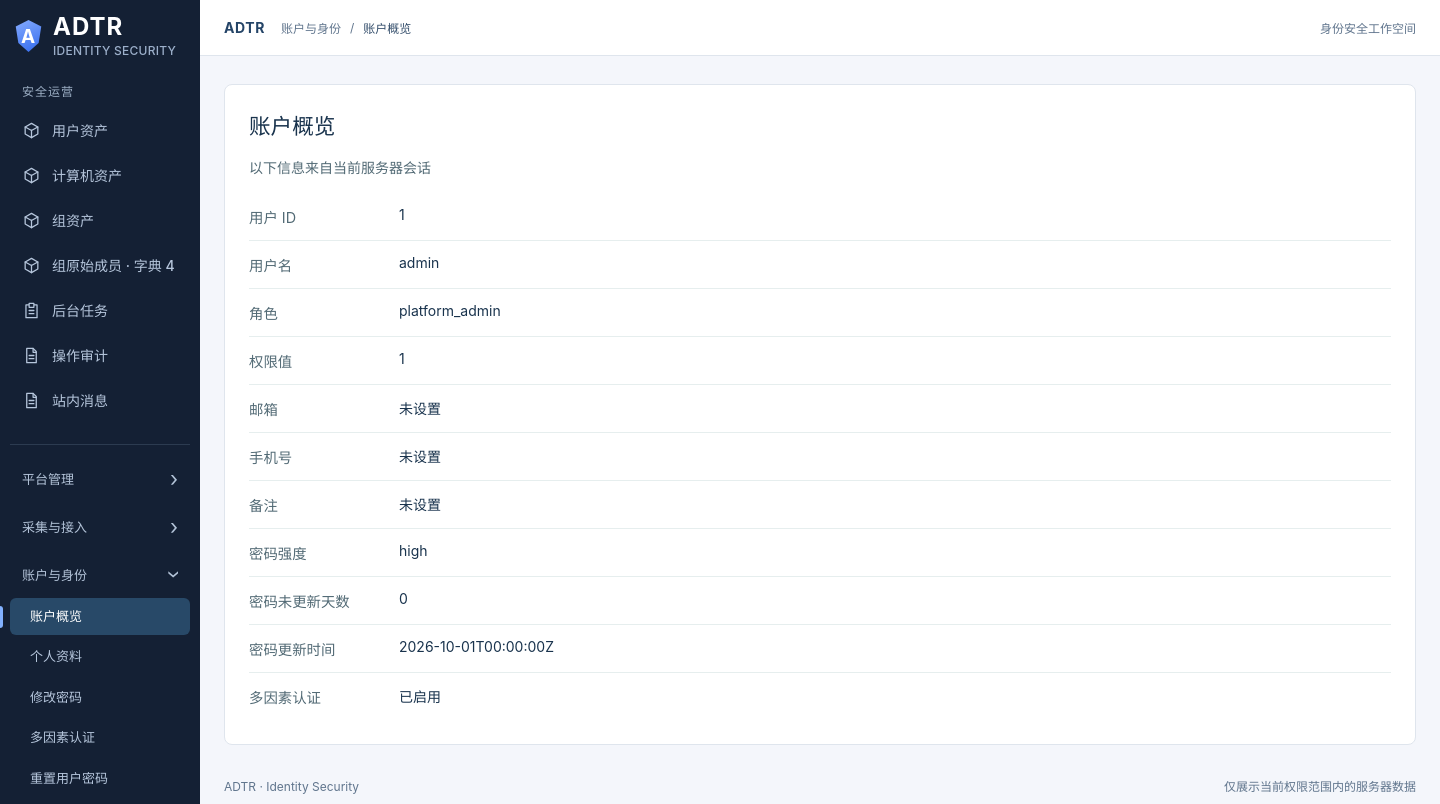
Test: server-driven navigation and sessions › shows no management functions for a viewer
Expected: the heading "账户概览" is shown, x1=249 y1=113 x2=335 y2=139
Step 1. Click the heading "平台管理 ›" → (48, 479), box x1=22 y1=466 x2=178 y2=491
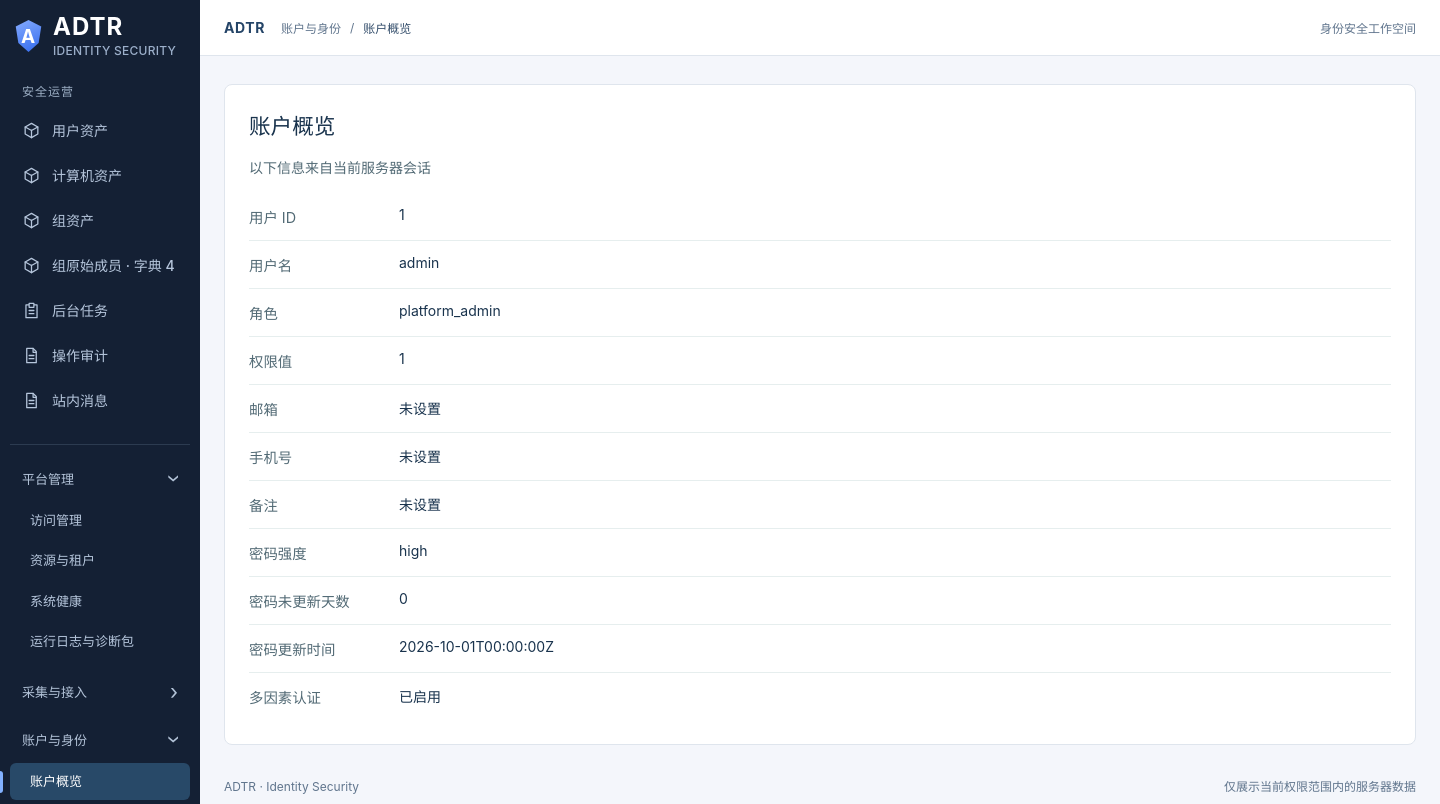
Expected: the button "访问管理" is shown
Step 2. Click the button "访问管理" → (100, 521), box x1=10 y1=502 x2=190 y2=539
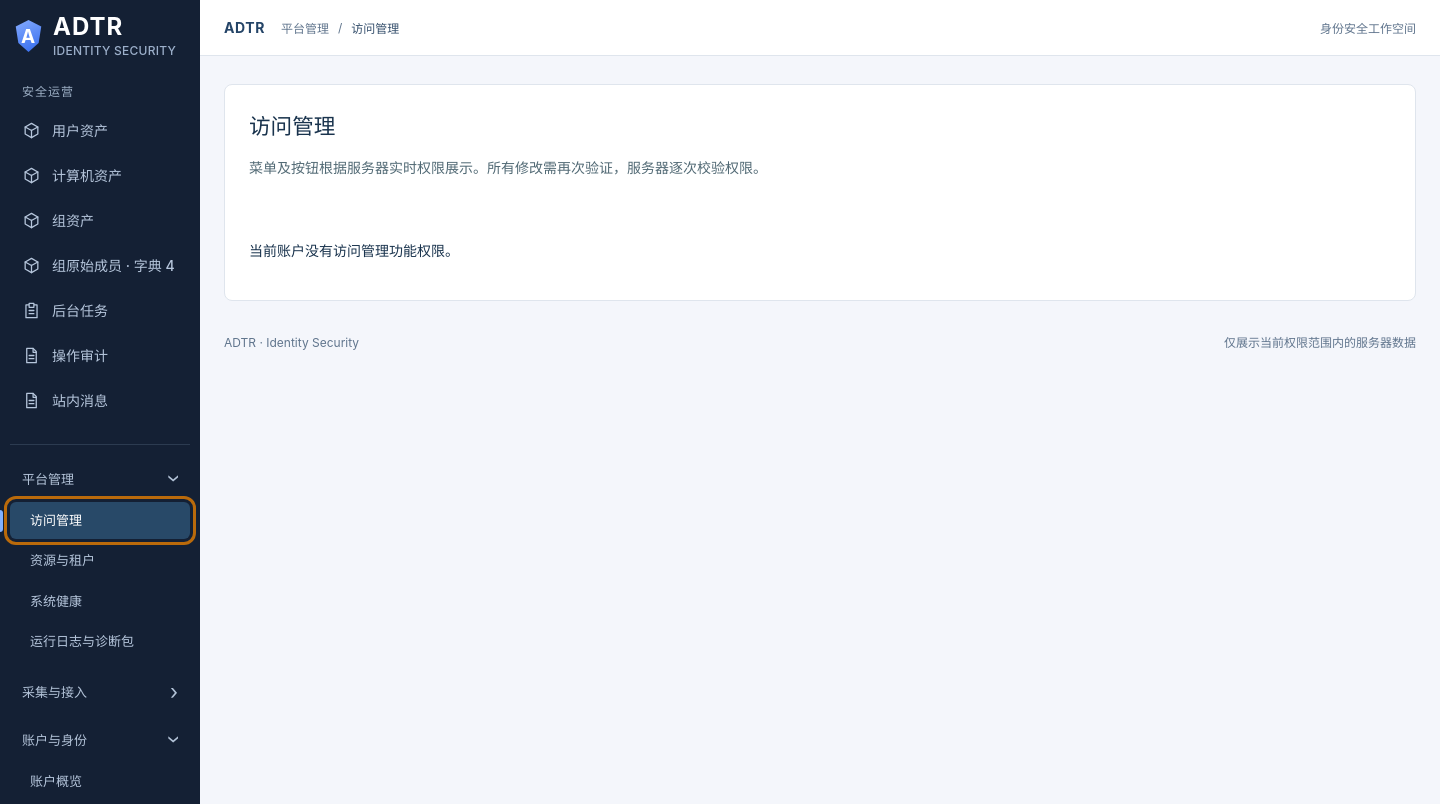
Expected: the text "当前账户没有访问管理功能权限。" is shown, x1=249 y1=242 x2=459 y2=259
